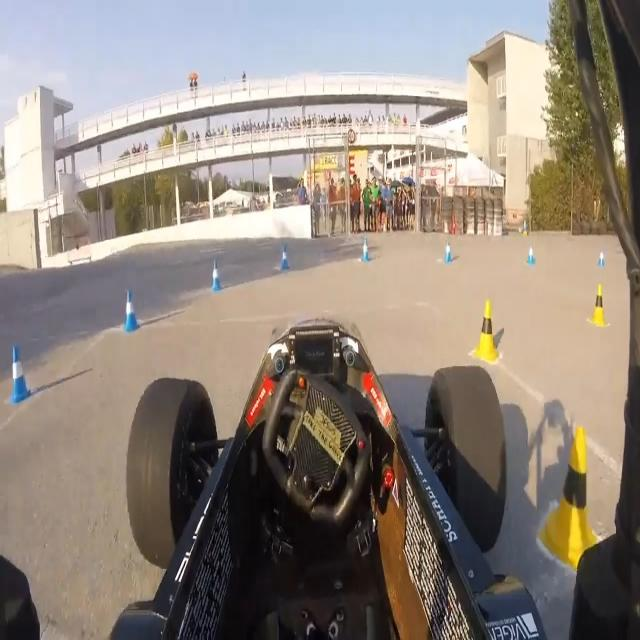blue_cone: (8, 344, 31, 404), (124, 288, 140, 332), (211, 260, 223, 292), (279, 244, 291, 271), (360, 237, 370, 263), (442, 240, 452, 264), (526, 243, 535, 264), (597, 248, 604, 268)
yellow_cone: (540, 424, 606, 566), (473, 296, 500, 363), (590, 282, 608, 328)
